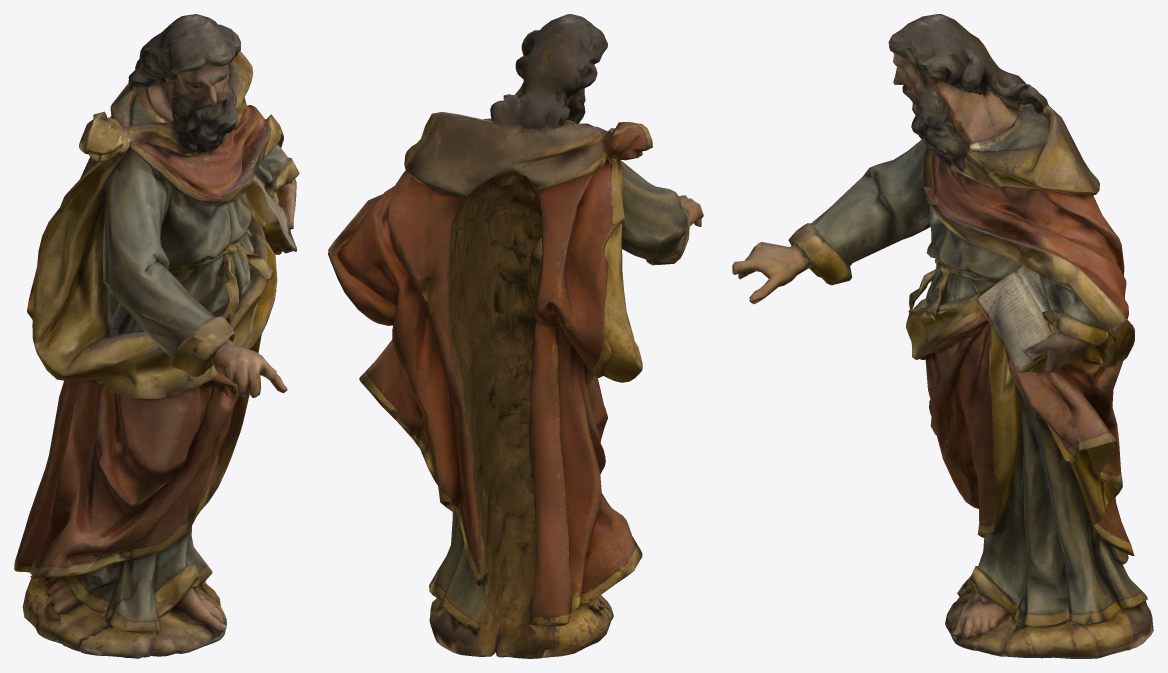
The model's file is paulo.glb.
3 views of the same model, side by side, from view 1: azimuth 30°, elevation 25°; view 2: azimuth 150°, elevation 25°; view 3: azimuth 270°, elevation 25° (orthographic). The views are drawn at different scales.
Visible parts, largest first — view 1: Object_2; view 2: Object_2; view 3: Object_2.
Part boxes in pixels (x1=…): Object_2: x1=14, y1=14, x2=299, y2=658; Object_2: x1=328, y1=14, x2=703, y2=658; Object_2: x1=732, y1=14, x2=1153, y2=658.
Size of the model in its own units: 0.4019 by 0.8299 by 0.5194.
Materials: 1 (1 with a texture image).
